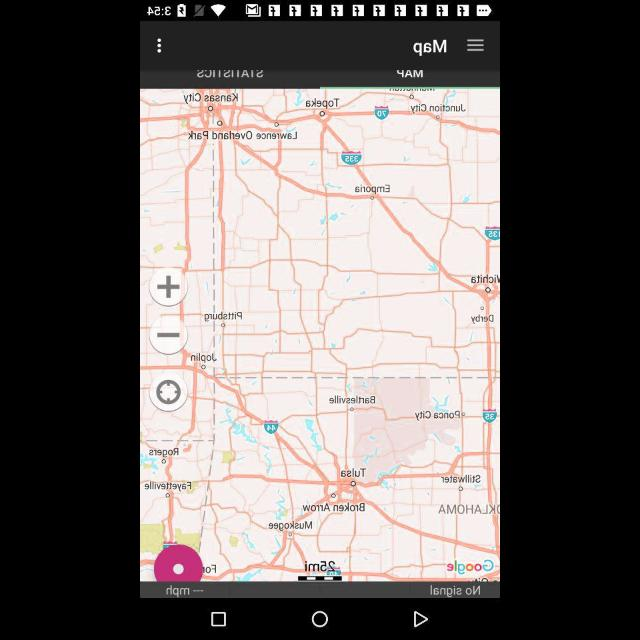icon: (156, 274, 182, 300), (157, 380, 181, 406), (312, 611, 331, 629), (158, 328, 182, 342), (466, 38, 486, 54), (410, 612, 428, 628), (210, 612, 226, 628), (156, 37, 162, 53)
map: (142, 88, 498, 582)
multitab: (140, 59, 500, 87)
panel: (140, 599, 500, 639)
text: (412, 36, 448, 56), (423, 584, 482, 596), (160, 584, 208, 598)
toolbar: (145, 22, 498, 59)
uppertaskbar: (141, 0, 500, 21)
